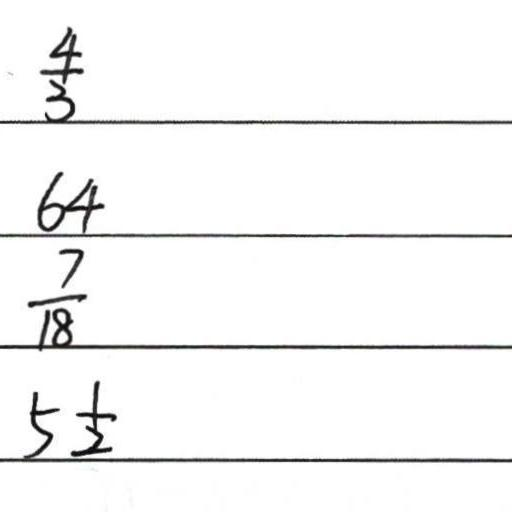ans: (19, 376, 117, 459), (23, 242, 88, 352), (32, 20, 85, 123), (31, 165, 104, 234)
